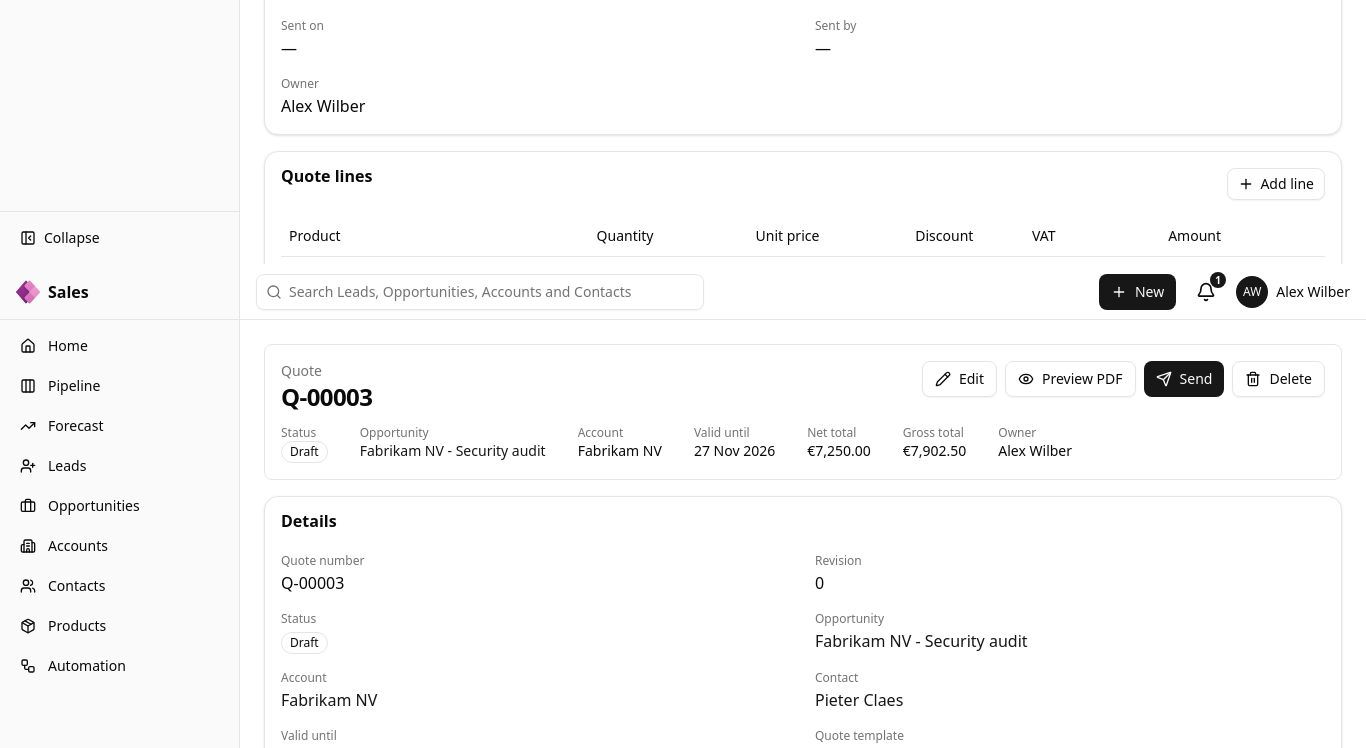
Test: Send › by email is stopped with a message when the Contact has no email, and nothing is sent or stored
The image size is (1366, 748).
(page scrolled)
Click the button "Send": (1184, 379) x1=1144 y1=361 x2=1224 y2=397
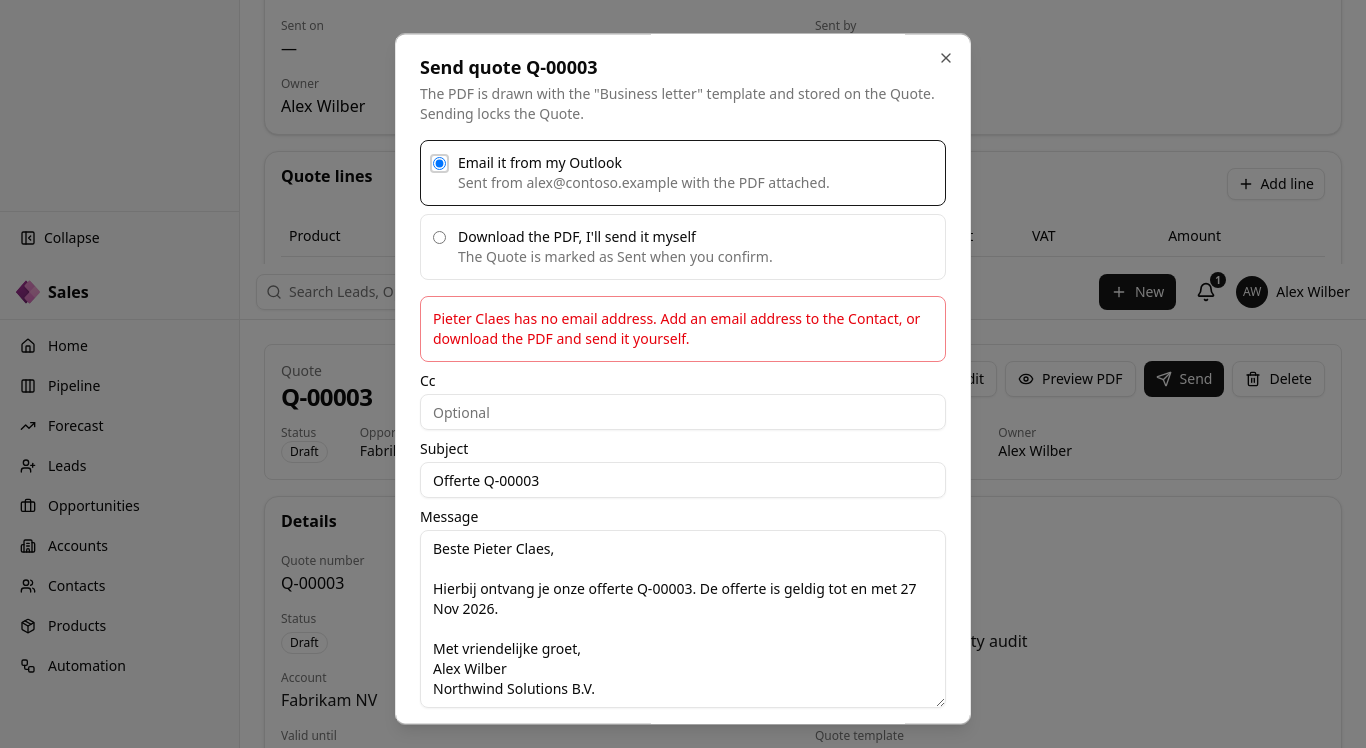
Result: the message shows "Pieter Claes has no email address" at x1=433 y1=309 x2=657 y2=328
